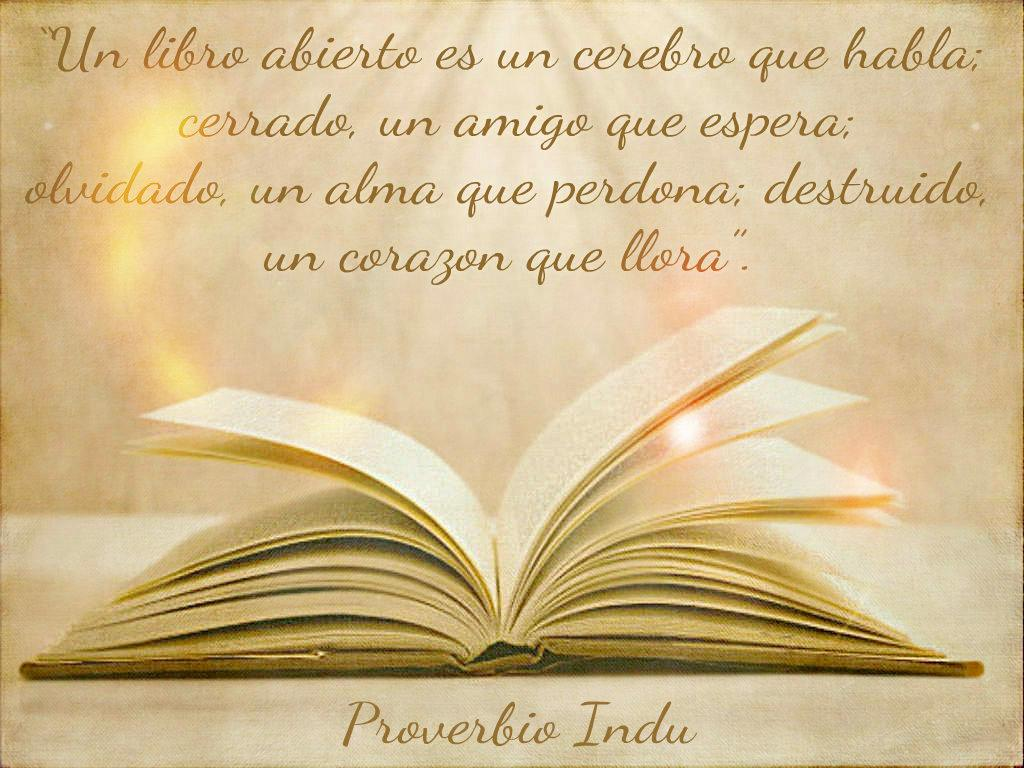book: (0, 118, 1024, 745)
